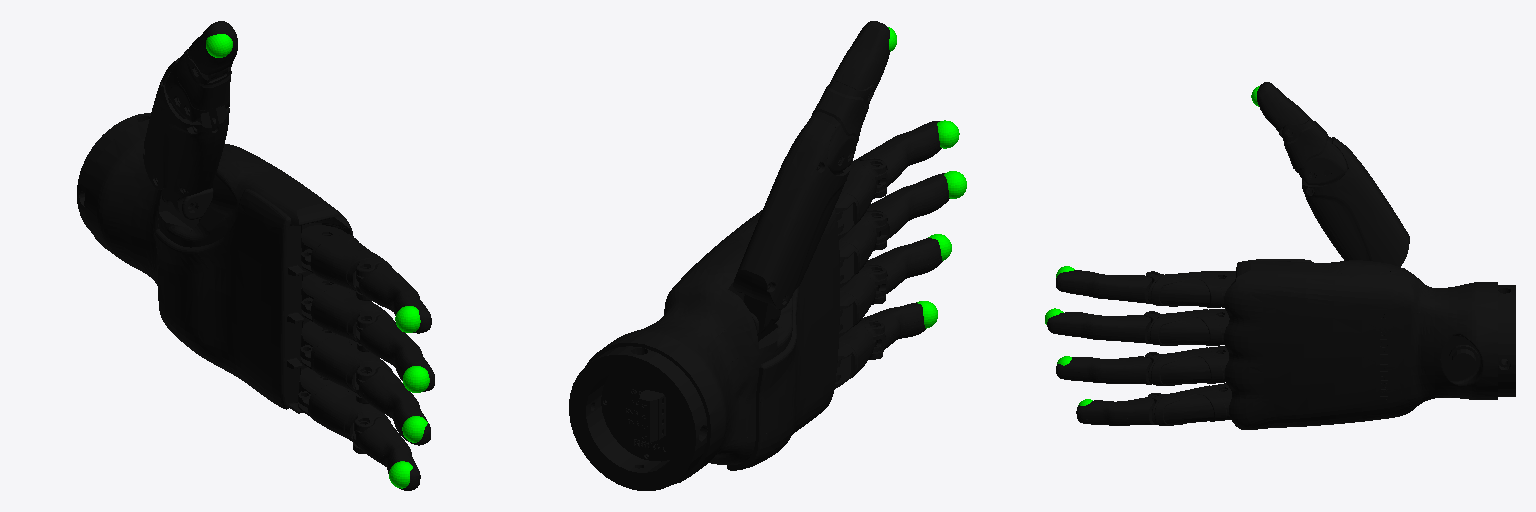
The robot description file, URDF, robot "h1":
<robot
  name="h1">

    <link name="L_hand_base_link">
      <inertial>
        <origin
          xyz="-0.002551 -0.066047 -0.0019357"
          rpy="0 0 0" />
        <mass
          value="0.14143" />
        <inertia
          ixx="0.0001234"
          ixy="2.1995E-06"
          ixz="-1.7694E-06"
          iyy="8.3835E-05"
          iyz="1.5968E-06"
          izz="7.7231E-05" />
      </inertial>
      <visual>
        <origin
          xyz="0 0 0"
          rpy="0 0 0" />
        <geometry>
          <mesh filename="./meshes/L_hand_base_link.obj" />
        </geometry>
        <material name="">
          <color rgba="0.1 0.1 0.1 1" />
        </material>
      </visual>
      <collision>
        <origin
          xyz="0 0 0"
          rpy="0 0 0" />
        <geometry>
          <mesh filename="./meshes/L_hand_base_link.obj" />
        </geometry>
      </collision>
    </link>

    <link name="L_thumb_proximal_base">
      <inertial>
        <origin
          xyz="0.0048817 0.00038782 -0.00722"
          rpy="0 0 0" />
        <mass
          value="0.0018869" />
        <inertia
          ixx="5.5158E-08"
          ixy="-1.1803E-08"
          ixz="-4.6743E-09"
          iyy="8.2164E-08"
          iyz="-1.3521E-09"
          izz="6.7434E-08" />
      </inertial>
      <visual>
        <origin
          xyz="0 0 0"
          rpy="0 0 0" />
        <geometry>
          <mesh filename="./meshes/Link11_L.obj" />
        </geometry>
        <material name="">
          <color rgba="0.1 0.1 0.1 1" />
        </material>
      </visual>
      <collision>
        <origin
          xyz="0 0 0"
          rpy="0 0 0" />
        <geometry>
          <mesh filename="./meshes/Link11_L.obj" />
        </geometry>
      </collision>
    </link>

    <joint
      name="L_thumb_proximal_yaw_joint"
      type="revolute">
      <origin
        xyz="-0.01696 -0.0691 0.02045"
        rpy="1.5708 -1.5708 0" />
      <parent
        link="L_hand_base_link" />
      <child
        link="L_thumb_proximal_base" />
      <axis
        xyz="0 0 1" />
      <limit
        lower="-0.1"
        upper="1.3"
        effort="1"
        velocity="0.5" />
    </joint>

    <link name="L_thumb_proximal">
      <inertial>
        <origin
          xyz="0.021936 -0.01279 -0.0080386"
          rpy="0 0 0" />
        <mass
          value="0.0066101" />
        <inertia
          ixx="1.5693E-06"
          ixy="7.8339E-07"
          ixz="8.5959E-10"
          iyy="1.7356E-06"
          iyz="1.0378E-09"
          izz="2.787E-06" />
      </inertial>
      <visual>
        <origin
          xyz="0 0 0"
          rpy="0 0 0" />
        <geometry>
          <mesh filename="./meshes/Link12_L.obj" />
        </geometry>
        <material name="">
          <color rgba="0.1 0.1 0.1 1" />
        </material>
      </visual>
      <collision>
        <origin
          xyz="0 0 0"
          rpy="0 0 0" />
        <geometry>
          <mesh filename="./meshes/Link12_L.obj" />
        </geometry>
      </collision>
    </link>

    <joint
      name="L_thumb_proximal_pitch_joint"
      type="revolute">
      <origin
        xyz="0.0099867 0.0098242 -0.0089"
        rpy="-1.5708 0 0.16939" />
      <parent
        link="L_thumb_proximal_base" />
      <child
        link="L_thumb_proximal" />
      <axis
        xyz="0 0 -1" />
      <limit
        lower="0.0"
        upper="0.5"
        effort="1"
        velocity="0.5" />
    </joint>

    <link name="L_thumb_intermediate">
      <inertial>
        <origin
          xyz="0.0095531 0.0016282 -0.0072002"
          rpy="0 0 0" />
        <mass
          value="0.0037844" />
        <inertia
          ixx="3.6981E-07"
          ixy="9.8603E-08"
          ixz="-2.8173E-12"
          iyy="3.2395E-07"
          iyz="-2.8028E-12"
          izz="4.6532E-07" />
      </inertial>
      <visual>
        <origin
          xyz="0 0 0"
          rpy="0 0 0" />
        <geometry>
          <mesh filename="./meshes/Link13_L.obj" />
        </geometry>
        <material name="">
          <color rgba="0.1 0.1 0.1 1" />
        </material>
      </visual>
      <collision>
        <origin
          xyz="0 0 0"
          rpy="0 0 0" />
        <geometry>
          <mesh filename="./meshes/Link13_L.obj" />
        </geometry>
      </collision>
    </link>

    <joint
      name="L_thumb_intermediate_joint"
      type="revolute">
      <origin
        xyz="0.04407 -0.034553 -0.0008"
        rpy="0 0 0" />
      <parent
        link="L_thumb_proximal" />
      <child
        link="L_thumb_intermediate" />
      <axis
        xyz="0 0 -1" />
      <limit
        lower="0"
        upper="0.8"
        effort="1"
        velocity="0.5" />
      <mimic 
        joint="L_thumb_proximal_pitch_joint"
        multiplier="1.6"
        offset="0" />
    </joint>

    <link name="L_thumb_distal">
      <inertial>
        <origin
          xyz="0.0092888 -0.004953 -0.0060033"
          rpy="0 0 0" />
        <mass
          value="0.003344" />
        <inertia
          ixx="1.3632E-07"
          ixy="5.6787E-08"
          ixz="-9.1939E-11"
          iyy="1.4052E-07"
          iyz="1.2145E-10"
          izz="2.0026E-07" />
      </inertial>
      <visual>
        <origin
          xyz="0 0 0"
          rpy="0 0 0" />
        <geometry>
          <mesh filename="./meshes/Link14_L.obj" />
        </geometry>
        <material name="">
          <color rgba="0.1 0.1 0.1 1" />
        </material>
      </visual>
      <collision>
        <origin
          xyz="0 0 0"
          rpy="0 0 0" />
        <geometry>
          <mesh filename="./meshes/Link14_L.obj" />
        </geometry>
      </collision>
    </link>

    <joint
      name="L_thumb_distal_joint"
      type="revolute">
      <origin
        xyz="0.020248 -0.010156 -0.0012"
        rpy="0 0 0" />
      <parent
        link="L_thumb_intermediate" />
      <child
        link="L_thumb_distal" />
      <axis
        xyz="0 0 -1" />
      <limit
        lower="0"
        upper="1.2"
        effort="1"
        velocity="0.5" />
      <mimic 
        joint="L_thumb_proximal_pitch_joint"
        multiplier="2.4"
        offset="0" />
    </joint>

    <link name="L_index_proximal">
      <inertial>
        <origin
          xyz="0.0012971 -0.011934 -0.0059998"
          rpy="0 0 0" />
        <mass
          value="0.0042405" />
        <inertia
          ixx="6.6215E-07"
          ixy="1.8442E-08"
          ixz="1.3746E-12"
          iyy="2.1167E-07"
          iyz="-1.4773E-11"
          izz="6.9402E-07" />
      </inertial>
      <visual>
        <origin
          xyz="0 0 0"
          rpy="0 0 0" />
        <geometry>
          <mesh filename="./meshes/Link15_L.obj" />
        </geometry>
        <material name="">
          <color rgba="0.1 0.1 0.1 1" />
        </material>
      </visual>
      <collision>
        <origin
          xyz="0 0 0"
          rpy="0 0 0" />
        <geometry>
          <mesh filename="./meshes/Link15_L.obj" />
        </geometry>
      </collision>
    </link>

    <link name="L_thumb_tip">
    <visual>
      <origin
        xyz="0 0 0"
        rpy="0 0 0" />
      <geometry>
        <sphere radius="0.005"/>
      </geometry>
      <material name="green">
        <color rgba="0 1 0 1" />
      </material>
    </visual>
  </link>
  <joint name="L_thumb_tip_joint" type="fixed">
    <parent link="L_thumb_distal"/>
    <child link="L_thumb_tip"/>
    <origin rpy="0 0 0" xyz="0.015 -0.013 -0.004"/>
  </joint>

    <joint
      name="L_index_proximal_joint"
      type="revolute">
      <origin
        xyz="0.00028533 -0.13653 0.032268"
        rpy="-0.034907 0 0" />
      <parent
        link="L_hand_base_link" />
      <child
        link="L_index_proximal" />
      <axis
        xyz="0 0 -1" />
      <limit
        lower="0"
        upper="1.7"
        effort="1"
        velocity="0.5" />
    </joint>

    <link name="L_index_intermediate">
      <inertial>
        <origin
          xyz="0.0021753 -0.019567 -0.005"
          rpy="0 0 0" />
        <mass
          value="0.0045682" />
        <inertia
          ixx="7.6284E-07"
          ixy="-8.063E-08"
          ixz="3.6797E-13"
          iyy="9.4308E-08"
          iyz="1.5743E-13"
          izz="7.8176E-07" />
      </inertial>
      <visual>
        <origin
          xyz="0 0 0"
          rpy="0 0 0" />
        <geometry>
          <mesh filename="./meshes/Link16_L.obj" />
        </geometry>
        <material name="">
          <color rgba="0.1 0.1 0.1 1" />
        </material>
      </visual>
      <collision>
        <origin
          xyz="0 0 0"
          rpy="0 0 0" />
        <geometry>
          <mesh filename="./meshes/Link16_L.obj" />
        </geometry>
      </collision>
    </link>

    <joint
      name="L_index_intermediate_joint"
      type="revolute">
      <origin
        xyz="-0.0024229 -0.032041 -0.001"
        rpy="0 0 0" />
      <parent
        link="L_index_proximal" />
      <child
        link="L_index_intermediate" />
      <axis
        xyz="0 0 -1" />
      <limit
        lower="0"
        upper="1.7"
        effort="1"
        velocity="0.5" />
      <mimic 
        joint="L_index_proximal_joint"
        multiplier="1"
        offset="0" />
    </joint>

    <link name="L_index_tip">
    <visual>
      <origin
        xyz="0 0 0"
        rpy="0 0 0" />
      <geometry>
        <sphere radius="0.005"/>
      </geometry>
      <material name="green">
        <color rgba="0 1 0 1" />
      </material>
    </visual>
  </link>
  <joint name="L_index_tip_joint" type="fixed">
    <parent link="L_index_intermediate"/>
    <child link="L_index_tip"/>
    <origin rpy="0 0 0" xyz="-0.005 -0.04 -0.004"/>
  </joint>

    <link name="L_middle_proximal">
      <inertial>
        <origin
          xyz="0.0012971 -0.011934 -0.0059999"
          rpy="0 0 0" />
        <mass
          value="0.0042405" />
        <inertia
          ixx="6.6215E-07"
          ixy="1.8442E-08"
          ixz="1.2299E-12"
          iyy="2.1167E-07"
          iyz="-1.4484E-11"
          izz="6.9402E-07" />
      </inertial>
      <visual>
        <origin
          xyz="0 0 0"
          rpy="0 0 0" />
        <geometry>
          <mesh filename="./meshes/Link17_L.obj" />
        </geometry>
        <material name="">
          <color rgba="0.1 0.1 0.1 1" />
        </material>
      </visual>
      <collision>
        <origin
          xyz="0 0 0"
          rpy="0 0 0" />
        <geometry>
          <mesh filename="./meshes/Link17_L.obj" />
        </geometry>
      </collision>
    </link>

    <joint
      name="L_middle_proximal_joint"
      type="revolute">
      <origin
        xyz="0.00028533 -0.1371 0.01295"
        rpy="0 0 0" />
      <parent
        link="L_hand_base_link" />
      <child
        link="L_middle_proximal" />
      <axis
        xyz="0 0 -1" />
      <limit
        lower="0"
        upper="1.7"
        effort="1"
        velocity="0.5" />
    </joint>

    <link name="L_middle_intermediate">
      <inertial>
        <origin
          xyz="0.001921 -0.020796 -0.0049999"
          rpy="0 0 0" />
        <mass
          value="0.0050397" />
        <inertia
          ixx="9.5823E-07"
          ixy="-1.1425E-07"
          ixz="-2.4186E-12"
          iyy="1.0646E-07"
          iyz="3.6974E-12"
          izz="9.8385E-07" />
      </inertial>
      <visual>
        <origin
          xyz="0 0 0"
          rpy="0 0 0" />
        <geometry>
          <mesh filename="./meshes/Link18_L.obj" />
        </geometry>
        <material name="">
          <color rgba="0.1 0.1 0.1 1" />
        </material>
      </visual>
      <collision>
        <origin
          xyz="0 0 0"
          rpy="0 0 0" />
        <geometry>
          <mesh filename="./meshes/Link18_L.obj" />
        </geometry>
      </collision>
    </link>
    
    <joint
      name="L_middle_intermediate_joint"
      type="revolute">
      <origin
        xyz="-0.0024229 -0.032041 -0.001"
        rpy="0 0 0" />
      <parent
        link="L_middle_proximal" />
      <child
        link="L_middle_intermediate" />
      <axis
        xyz="0 0 -1" />
      <limit
        lower="0"
        upper="1.7"
        effort="1"
        velocity="0.5" />
      <mimic 
        joint="L_middle_proximal_joint"
        multiplier="1"
        offset="0" />
    </joint>

    <link name="L_middle_tip">
    <visual>
      <origin
        xyz="0 0 0"
        rpy="0 0 0" />
      <geometry>
        <sphere radius="0.005"/>
      </geometry>
      <material name="green">
        <color rgba="0 1 0 1" />
      </material>
    </visual>
  </link>
  <joint name="L_middle_tip_joint" type="fixed">
    <parent link="L_middle_intermediate"/>
    <child link="L_middle_tip"/>
    <origin rpy="0 0 0" xyz="-0.005 -0.045 -0.004"/>
  </joint>

    <link name="L_ring_proximal">
      <inertial>
        <origin
          xyz="0.0012971 -0.011934 -0.0059999"
          rpy="0 0 0" />
        <mass
          value="0.0042405" />
        <inertia
          ixx="6.6215E-07"
          ixy="1.8442E-08"
          ixz="9.6052E-13"
          iyy="2.1167E-07"
          iyz="-1.4124E-11"
          izz="6.9402E-07" />
      </inertial>
      <visual>
        <origin
          xyz="0 0 0"
          rpy="0 0 0" />
        <geometry>
          <mesh filename="./meshes/Link19_L.obj" />
        </geometry>
        <material name="">
          <color rgba="0.1 0.1 0.1 1" />
        </material>
      </visual>
      <collision>
        <origin
          xyz="0 0 0"
          rpy="0 0 0" />
        <geometry>
          <mesh filename="./meshes/Link19_L.obj" />
        </geometry>
      </collision>
    </link>

    <joint
      name="L_ring_proximal_joint"
      type="revolute">
      <origin
        xyz="0.00028533 -0.13691 -0.0062872"
        rpy="0.05236 0 0" />
      <parent
        link="L_hand_base_link" />
      <child
        link="L_ring_proximal" />
      <axis
        xyz="0 0 -1" />
      <limit
        lower="0"
        upper="1.7"
        effort="1"
        velocity="0.5" />
    </joint>

    <link name="L_ring_intermediate">
      <inertial>
        <origin
          xyz="0.0021753 -0.019567 -0.005"
          rpy="0 0 0" />
        <mass
          value="0.0045682" />
        <inertia
          ixx="7.6285E-07"
          ixy="-8.0631E-08"
          ixz="3.3472E-14"
          iyy="9.4308E-08"
          iyz="-4.4773E-13"
          izz="7.8176E-07" />
      </inertial>
      <visual>
        <origin
          xyz="0 0 0"
          rpy="0 0 0" />
        <geometry>
          <mesh filename="./meshes/Link20_L.obj" />
        </geometry>
        <material name="">
          <color rgba="0.1 0.1 0.1 1" />
        </material>
      </visual>
      <collision>
        <origin
          xyz="0 0 0"
          rpy="0 0 0" />
        <geometry>
          <mesh filename="./meshes/Link20_L.obj" />
        </geometry>
      </collision>
    </link>

    <joint
      name="L_ring_intermediate_joint"
      type="revolute">
      <origin
        xyz="-0.0024229 -0.032041 -0.001"
        rpy="0 0 0" />
      <parent
        link="L_ring_proximal" />
      <child
        link="L_ring_intermediate" />
      <axis
        xyz="0 0 -1" />
      <limit
        lower="0"
        upper="1.7"
        effort="1"
        velocity="0.5" />
      <mimic 
        joint="L_ring_proximal_joint"
        multiplier="1"
        offset="0" />
    </joint>

    <link name="L_ring_tip">
    <visual>
      <origin
        xyz="0 0 0"
        rpy="0 0 0" />
      <geometry>
        <sphere radius="0.005"/>
      </geometry>
      <material name="green">
        <color rgba="0 1 0 1" />
      </material>
    </visual>
  </link>
  <joint name="L_ring_tip_joint" type="fixed">
    <parent link="L_ring_intermediate"/>
    <child link="L_ring_tip"/>
    <origin rpy="0 0 0" xyz="-0.002 -0.04 -0.004"/>
  </joint>

    <link name="L_pinky_proximal">
      <inertial>
        <origin
          xyz="0.0012971 -0.011934 -0.0059999"
          rpy="0 0 0" />
        <mass
          value="0.0042405" />
        <inertia
          ixx="6.6215E-07"
          ixy="1.8442E-08"
          ixz="1.0279E-12"
          iyy="2.1167E-07"
          iyz="-1.4277E-11"
          izz="6.9402E-07" />
      </inertial>
      <visual>
        <origin
          xyz="0 0 0"
          rpy="0 0 0" />
        <geometry>
          <mesh filename="./meshes/Link21_L.obj" />
        </geometry>
        <material name="">
          <color rgba="0.1 0.1 0.1 1" />
        </material>
      </visual>
      <collision>
        <origin
          xyz="0 0 0"
          rpy="0 0 0" />
        <geometry>
          <mesh filename="./meshes/Link21_L.obj" />
        </geometry>
      </collision>
    </link>

    <joint
      name="L_pinky_proximal_joint"
      type="revolute">
      <origin
        xyz="0.00028533 -0.13571 -0.025488"
        rpy="0.10472 0 0" />
      <parent
        link="L_hand_base_link" />
      <child
        link="L_pinky_proximal" />
      <axis
        xyz="0 0 -1" />
      <limit
        lower="0"
        upper="1.7"
        effort="1"
        velocity="0.5" />
    </joint>

    <link name="L_pinky_intermediate">
      <inertial>
        <origin
          xyz="0.0024788 -0.016208 -0.0050001"
          rpy="0 0 0" />
        <mass
          value="0.0036036" />
        <inertia
          ixx="4.3923E-07"
          ixy="-4.1355E-08"
          ixz="1.2263E-12"
          iyy="7.0315E-08"
          iyz="3.1311E-12"
          izz="4.4881E-07" />
      </inertial>
      <visual>
        <origin
          xyz="0 0 0"
          rpy="0 0 0" />
        <geometry>
          <mesh filename="./meshes/Link22_L.obj" />
        </geometry>
        <material name="">
          <color rgba="0.1 0.1 0.1 1" />
        </material>
      </visual>
      <collision>
        <origin
          xyz="0 0 0"
          rpy="0 0 0" />
        <geometry>
          <mesh filename="./meshes/Link22_L.obj" />
        </geometry>
      </collision>
    </link>

    <joint
      name="L_pinky_intermediate_joint"
      type="revolute">
      <origin
        xyz="-0.0024229 -0.032041 -0.001"
        rpy="0 0 0" />
      <parent
        link="L_pinky_proximal" />
      <child
        link="L_pinky_intermediate" />
      <axis
        xyz="0 0 -1" />
      <limit
        lower="0"
        upper="1.7"
        effort="1"
        velocity="0.5" />
      <mimic 
        joint="L_pinky_proximal_joint"
        multiplier="1"
        offset="0" />
    </joint>

    <link name="L_pinky_tip">
    <visual>
      <origin
        xyz="0 0 0"
        rpy="0 0 0" />
      <geometry>
        <sphere radius="0.005"/>
      </geometry>
      <material name="green">
        <color rgba="0 1 0 1" />
      </material>
    </visual>
  </link>
  <joint name="L_pinky_tip_joint" type="fixed">
    <parent link="L_pinky_intermediate"/>
    <child link="L_pinky_tip"/>
    <origin rpy="0 0 0" xyz="-0.002 -0.032 -0.004"/>
  </joint>

</robot>

--- What the picture shows (computed from the rendered views, not written in the file) ---
3 views of the same robot in one strip: view 1: azimuth 30°, elevation 25°; view 2: azimuth 150°, elevation 25°; view 3: azimuth 270°, elevation 25° (orthographic).
Robot: h1 — 18 links, 17 joints (12 revolute, 5 fixed); root link L_hand_base_link; default pose: every joint at zero.
Links seen in each view (by area): view 1: L_hand_base_link, L_thumb_proximal, L_index_proximal, L_ring_proximal, L_pinky_proximal, L_middle_proximal, L_thumb_intermediate, L_middle_intermediate, L_ring_intermediate, L_index_intermediate, L_pinky_intermediate, L_thumb_distal (+3 smaller); view 2: L_hand_base_link, L_thumb_proximal, L_thumb_intermediate, L_middle_intermediate, L_thumb_distal, L_index_intermediate, L_ring_intermediate, L_index_proximal, L_middle_proximal, L_ring_proximal, L_pinky_proximal, L_pinky_intermediate (+1 smaller); view 3: L_hand_base_link, L_thumb_proximal, L_thumb_intermediate, L_index_proximal, L_middle_proximal, L_pinky_proximal, L_ring_proximal, L_middle_intermediate, L_index_intermediate, L_ring_intermediate, L_pinky_intermediate, L_thumb_distal.
Link boxes in pixels (x1,y1,x2,y2): L_hand_base_link: (77,113,353,413); L_thumb_proximal: (143,57,229,195); L_index_proximal: (301,225,391,300); L_ring_proximal: (301,321,392,403); L_pinky_proximal: (298,367,390,453); L_middle_proximal: (302,274,392,351); L_thumb_intermediate: (165,49,231,122); L_middle_intermediate: (356,315,434,391); L_ring_intermediate: (355,367,430,445); L_index_intermediate: (356,264,431,333); L_pinky_intermediate: (353,418,420,490); L_thumb_distal: (188,21,237,80); L_hand_base_link: (569,208,843,490); L_thumb_proximal: (733,117,850,309); L_thumb_intermediate: (807,78,876,174); L_middle_intermediate: (866,173,949,243); L_thumb_distal: (833,21,889,89); L_index_intermediate: (856,121,941,191); L_ring_intermediate: (864,238,942,297); L_index_proximal: (835,160,886,239); L_middle_proximal: (839,212,886,287); L_ring_proximal: (839,266,886,337); L_pinky_proximal: (835,321,884,388); L_pinky_intermediate: (861,302,925,352); L_hand_base_link: (1224,259,1515,429); L_thumb_proximal: (1302,137,1409,266); L_thumb_intermediate: (1282,117,1347,185); L_index_proximal: (1146,271,1235,307); L_middle_proximal: (1144,309,1229,345); L_pinky_proximal: (1148,383,1231,425); L_ring_proximal: (1145,346,1228,385); L_middle_intermediate: (1047,312,1150,343); L_index_intermediate: (1056,270,1151,303); L_ring_intermediate: (1056,356,1151,384); L_pinky_intermediate: (1076,397,1154,425); L_thumb_distal: (1257,82,1308,136).
Size in the robot's own frame: 0.0666 by 0.2191 by 0.1607 metres.
13 mesh visuals loaded from 13 distinct referenced files (13 OBJ).